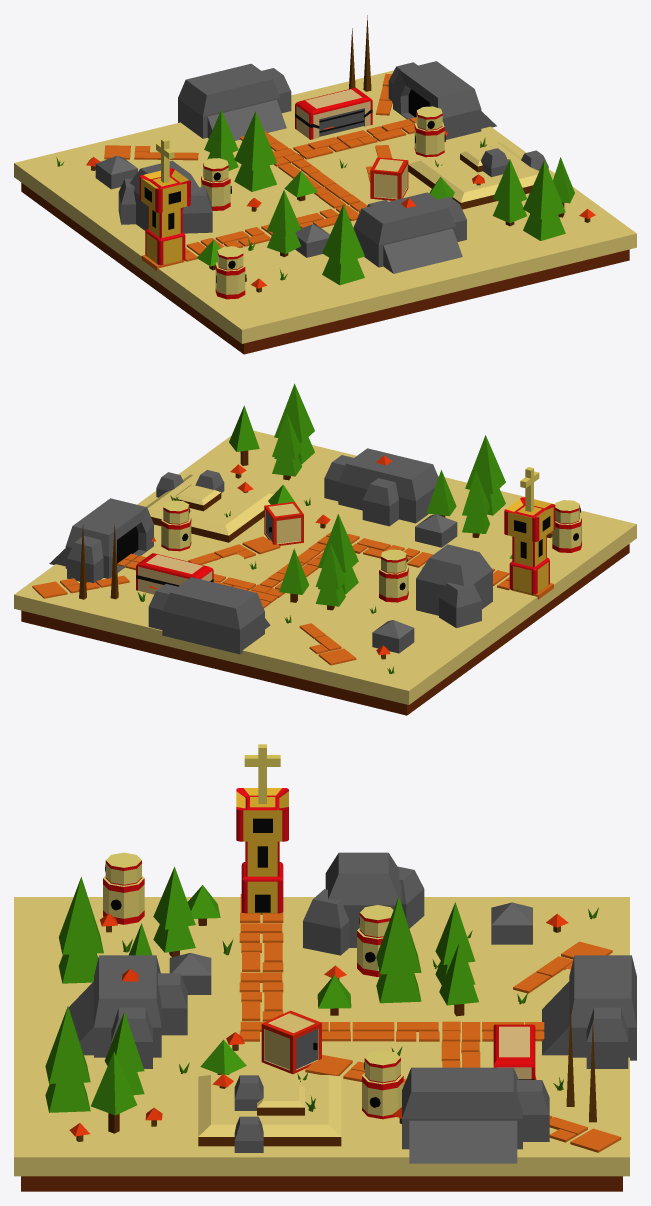
The model's file is SandMap.fbx.
3 renders of one model, top to bottom at view 1: azimuth 30°, elevation 25°; view 2: azimuth 150°, elevation 25°; view 3: azimuth 270°, elevation 25°, orthographic. The views are drawn at different scales.
Visible parts, largest first — view 1: Cube, Cube.121, Cube.060, Cube.119, Cube.069, Cube.010, Cube.118, Cube.068, Cube.001, Cube.004, Cube.007, Cube.059 (+17 smaller); view 2: Cube, Cube.060, Cube.010, Cube.069, Cube.119, Cube.121, Cube.076, Cube.118, Cube.075, Cube.115, Cube.001, Cylinder.001 (+16 smaller); view 3: Cube, Cube.010, Cube.121, Cube.119, Cube.060, Cube.120, Cube.069, Cube.076, Cube.007, Cube.004, Cube.115, Cube.001 (+26 smaller).
Part boxes in pixels (x1,y1,x2,y2): Cube: (14, 70, 636, 354); Cube.121: (393, 61, 481, 139); Cube.060: (178, 63, 280, 138); Cube.119: (139, 138, 190, 265); Cube.069: (353, 192, 456, 267); Cube.010: (408, 142, 539, 209); Cube.118: (295, 88, 372, 139); Cube.068: (383, 228, 462, 273); Cube.001: (322, 204, 364, 285); Cube.004: (234, 111, 276, 191); Cube.007: (523, 160, 565, 240); Cube.059: (207, 100, 286, 140); Cube: (14, 430, 636, 715); Cube.060: (162, 577, 264, 654); Cube.010: (146, 474, 273, 542); Cube.069: (338, 448, 438, 523); Cube.119: (504, 467, 555, 595); Cube.121: (65, 498, 153, 578); Cube.076: (416, 544, 492, 615); Cube.118: (136, 553, 213, 594); Cube.075: (439, 582, 481, 628); Cube.115: (264, 501, 303, 545); Cube.001: (465, 435, 505, 515); Cylinder.001: (379, 549, 408, 602); Cube: (14, 897, 629, 1191); Cube.010: (198, 1075, 341, 1146); Cube.121: (402, 1067, 522, 1149); Cube.119: (236, 744, 288, 914); Cube.060: (569, 955, 636, 1060); Cube.120: (409, 1120, 517, 1163); Cube.069: (94, 955, 161, 1057); Cube.076: (325, 852, 401, 947); Cube.007: (45, 1006, 90, 1112); Cube.004: (376, 896, 421, 1003); Cube.115: (261, 1010, 321, 1074); Cube.001: (58, 877, 103, 983).
Bounding box in the file's own units: 3012 × 1047 × 2983.
